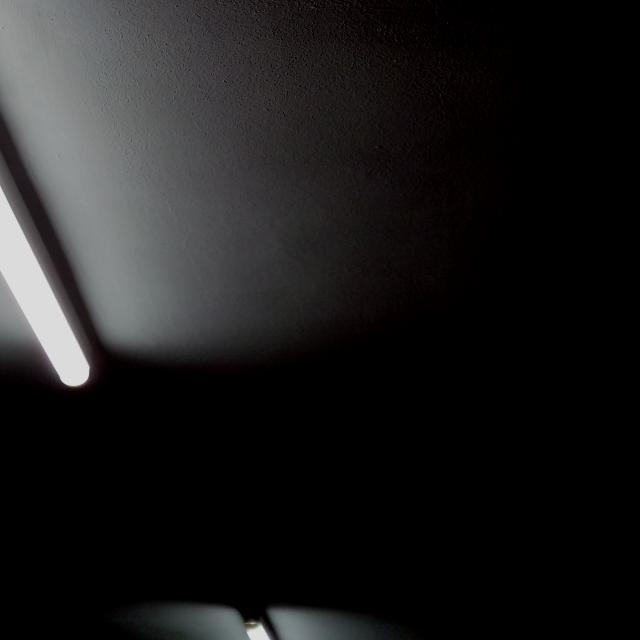fluorescent tube: (0, 0, 115, 423), (150, 598, 324, 640)
